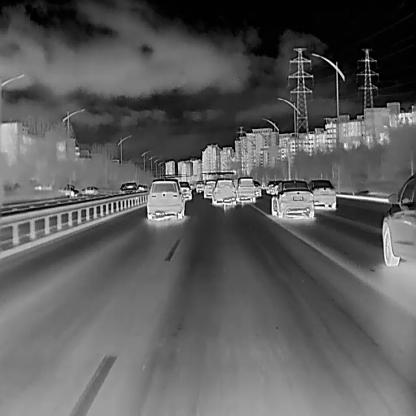car: (380, 173, 416, 268), (269, 177, 313, 219), (146, 176, 184, 218), (307, 177, 336, 211), (210, 177, 236, 205), (233, 176, 255, 203), (176, 179, 192, 200), (265, 180, 284, 194), (56, 184, 78, 196), (203, 178, 216, 197), (80, 184, 99, 196), (121, 180, 135, 195), (252, 178, 262, 196), (194, 178, 204, 192)
